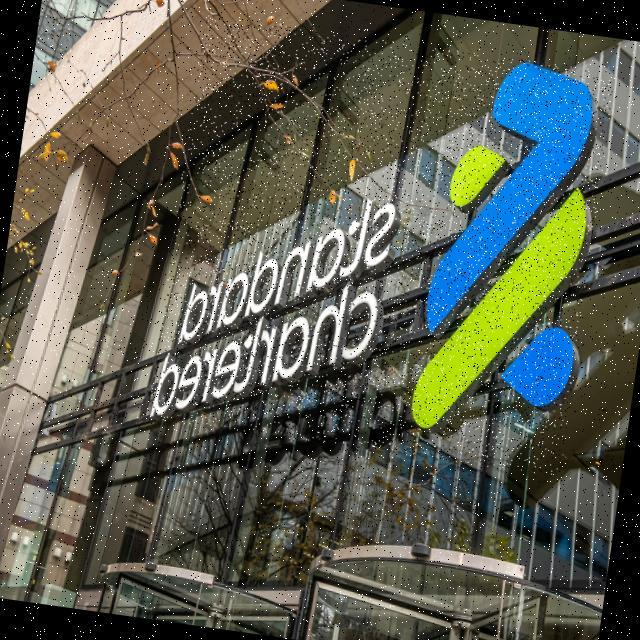Standard Chartered: (148, 16, 617, 478)
